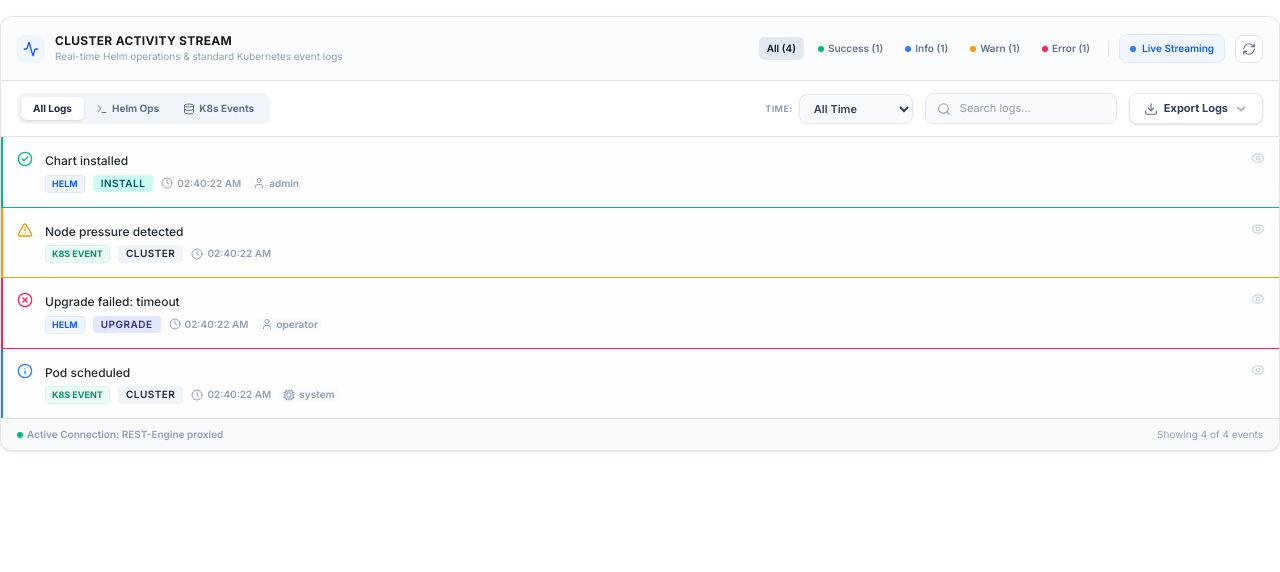
Test: ActivityLog › collapses an expanded log entry when clicked again
The image size is (1280, 572).
Expected: the text "Chart installed" is shown, x1=45 y1=153 x2=128 y2=168
Click the text "Chart installed" at {"x": 87, "y": 160}, box x1=17 y1=151 x2=1265 y2=192
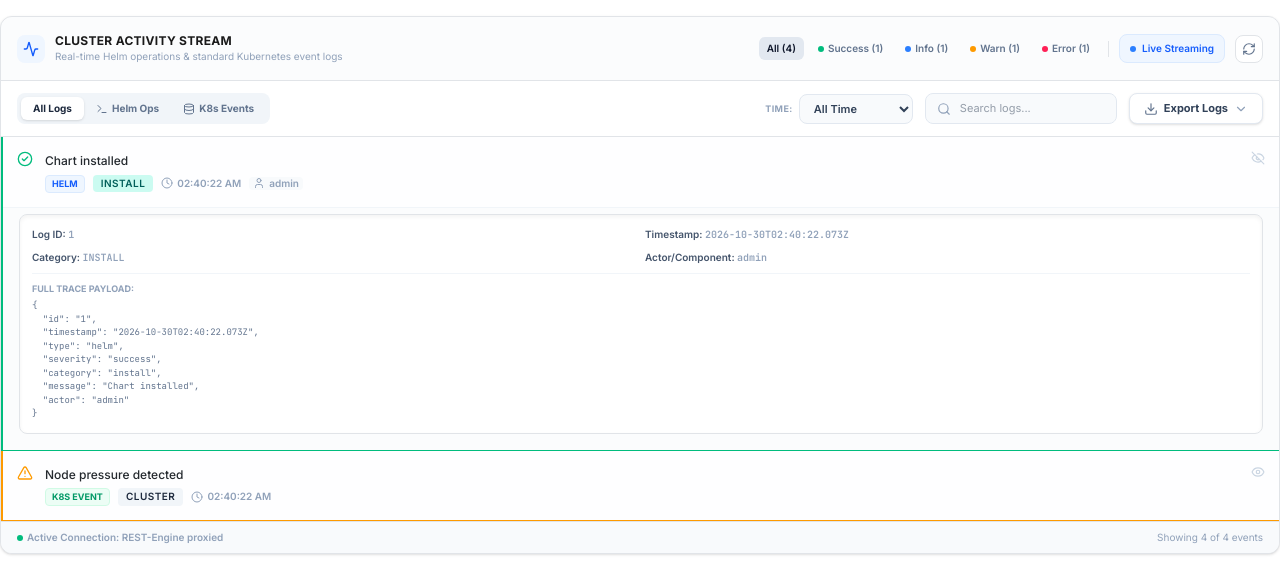
Expected: the text "Full Trace Payload:" is shown, x1=32 y1=282 x2=134 y2=294
Click the text "Chart installed" at {"x": 87, "y": 160}, box x1=17 y1=151 x2=1265 y2=192
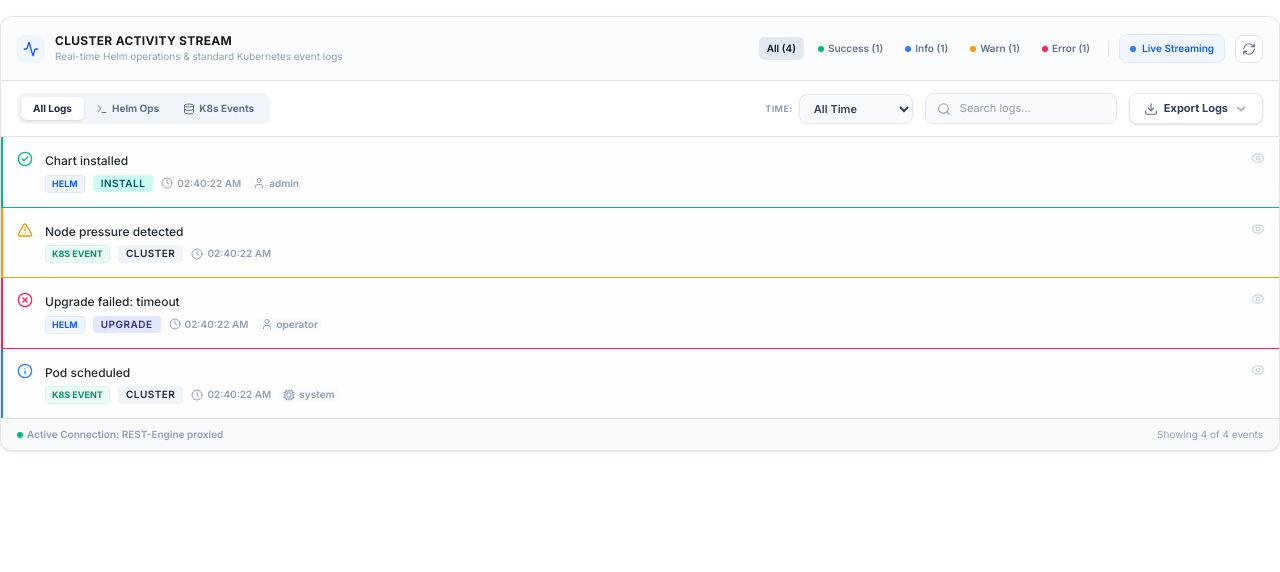
Expected: the text "Full Trace Payload:" is gone
